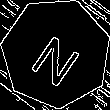N_NE: (25, 21, 86, 85)
